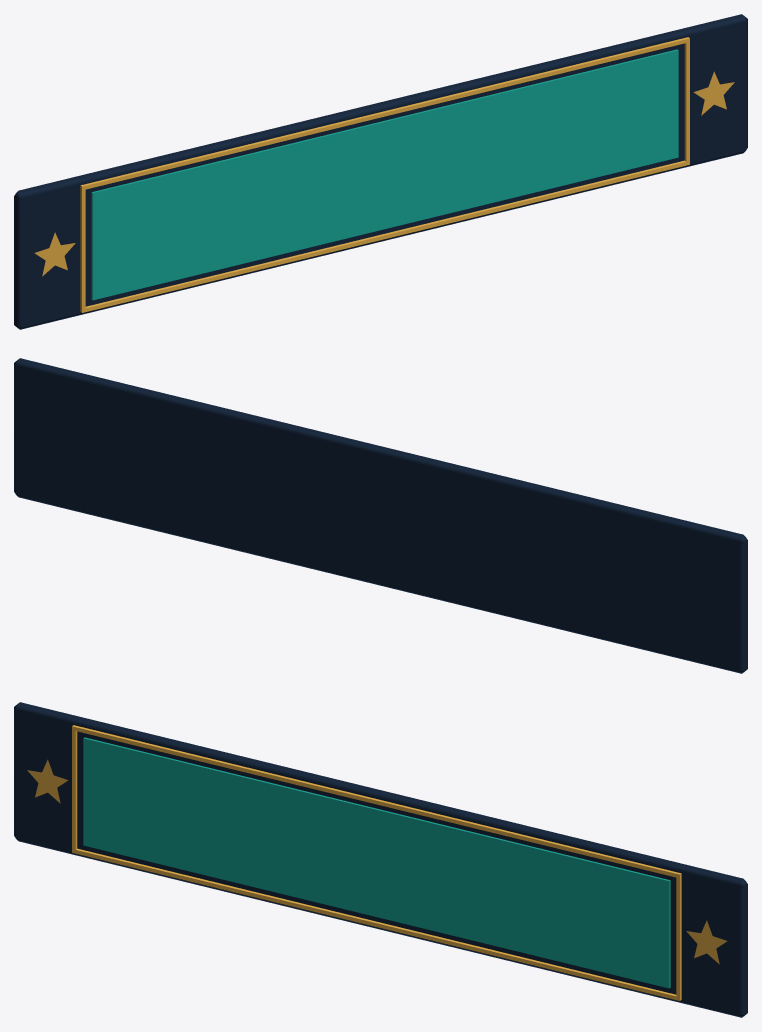
The model's file is CM_Shell_SignBoard_Small.fbx.
3 views of the same model, one above another, from view 1: azimuth 30°, elevation 25°; view 2: azimuth 150°, elevation 25°; view 3: azimuth 330°, elevation 25° (orthographic).
Visible parts, largest first — view 1: Face, Body, Neon; view 2: Body; view 3: Face, Body, Neon.
Boxes of the visible parts, x1=… form: Face: x1=91, y1=49, x2=678, y2=300; Body: x1=14, y1=14, x2=747, y2=329; Neon: x1=80, y1=37, x2=689, y2=312; Body: x1=14, y1=358, x2=747, y2=673; Face: x1=83, y1=737, x2=670, y2=988; Body: x1=14, y1=702, x2=747, y2=1017; Neon: x1=72, y1=725, x2=681, y2=1000.
Size of the model in its own units: 20 by 0.4 by 3.6.
Materials: 1 (1 with a texture image).
